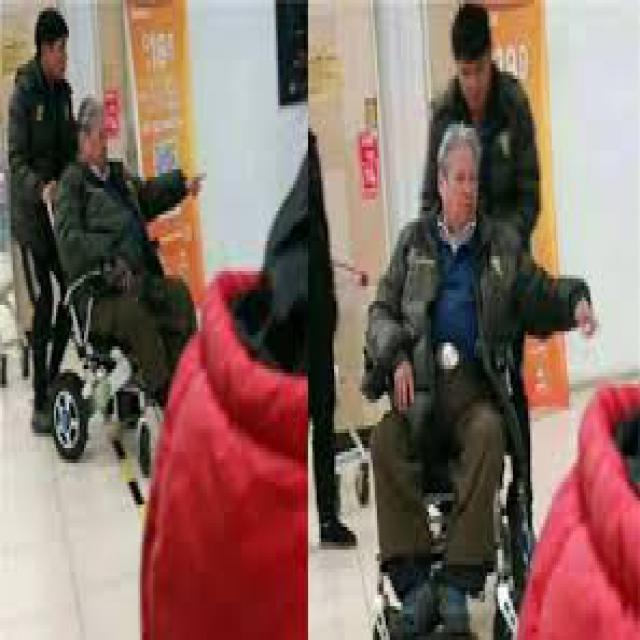wheelchairs: (356, 289, 534, 636), (23, 162, 190, 470)
